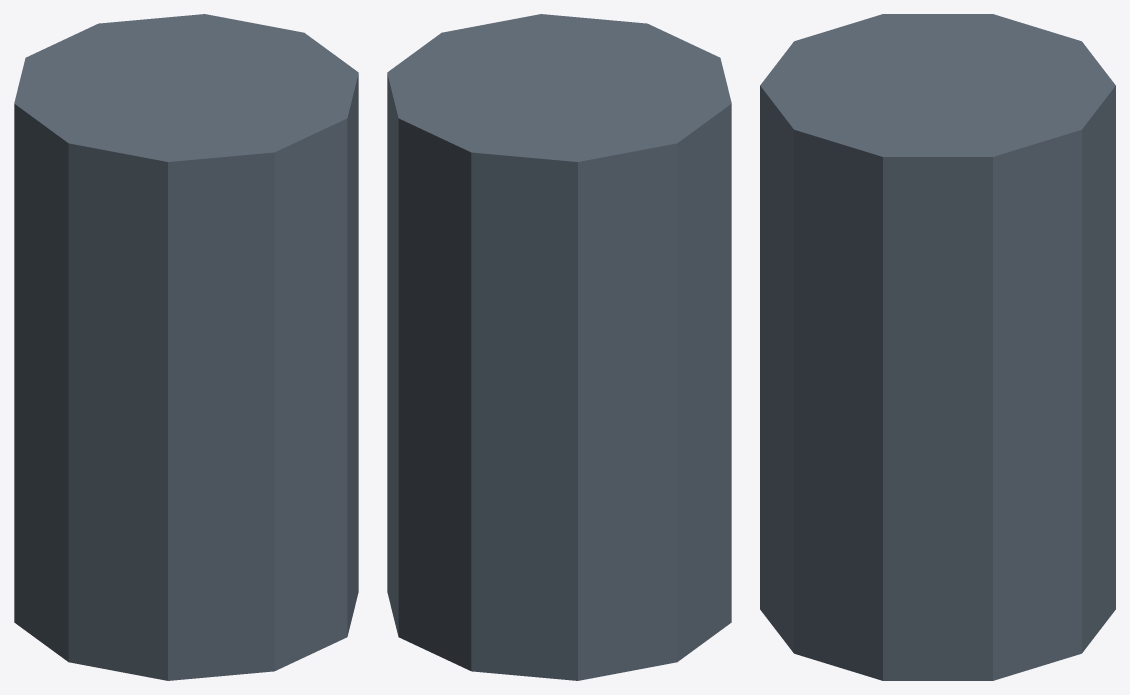
File: Column06.fbx
3 renders of one model, left to right at view 1: azimuth 30°, elevation 25°; view 2: azimuth 150°, elevation 25°; view 3: azimuth 270°, elevation 25°, orthographic.
Visible parts, largest first — view 1: Column06; view 2: Column06; view 3: Column06.
Part boxes in pixels (x1,y1,x2,y2): Column06: (14, 14, 358, 680); Column06: (387, 14, 731, 680); Column06: (760, 14, 1115, 680).
Size of the model in its own units: 30.43 by 52 by 32.
1 material, 1 textured.
